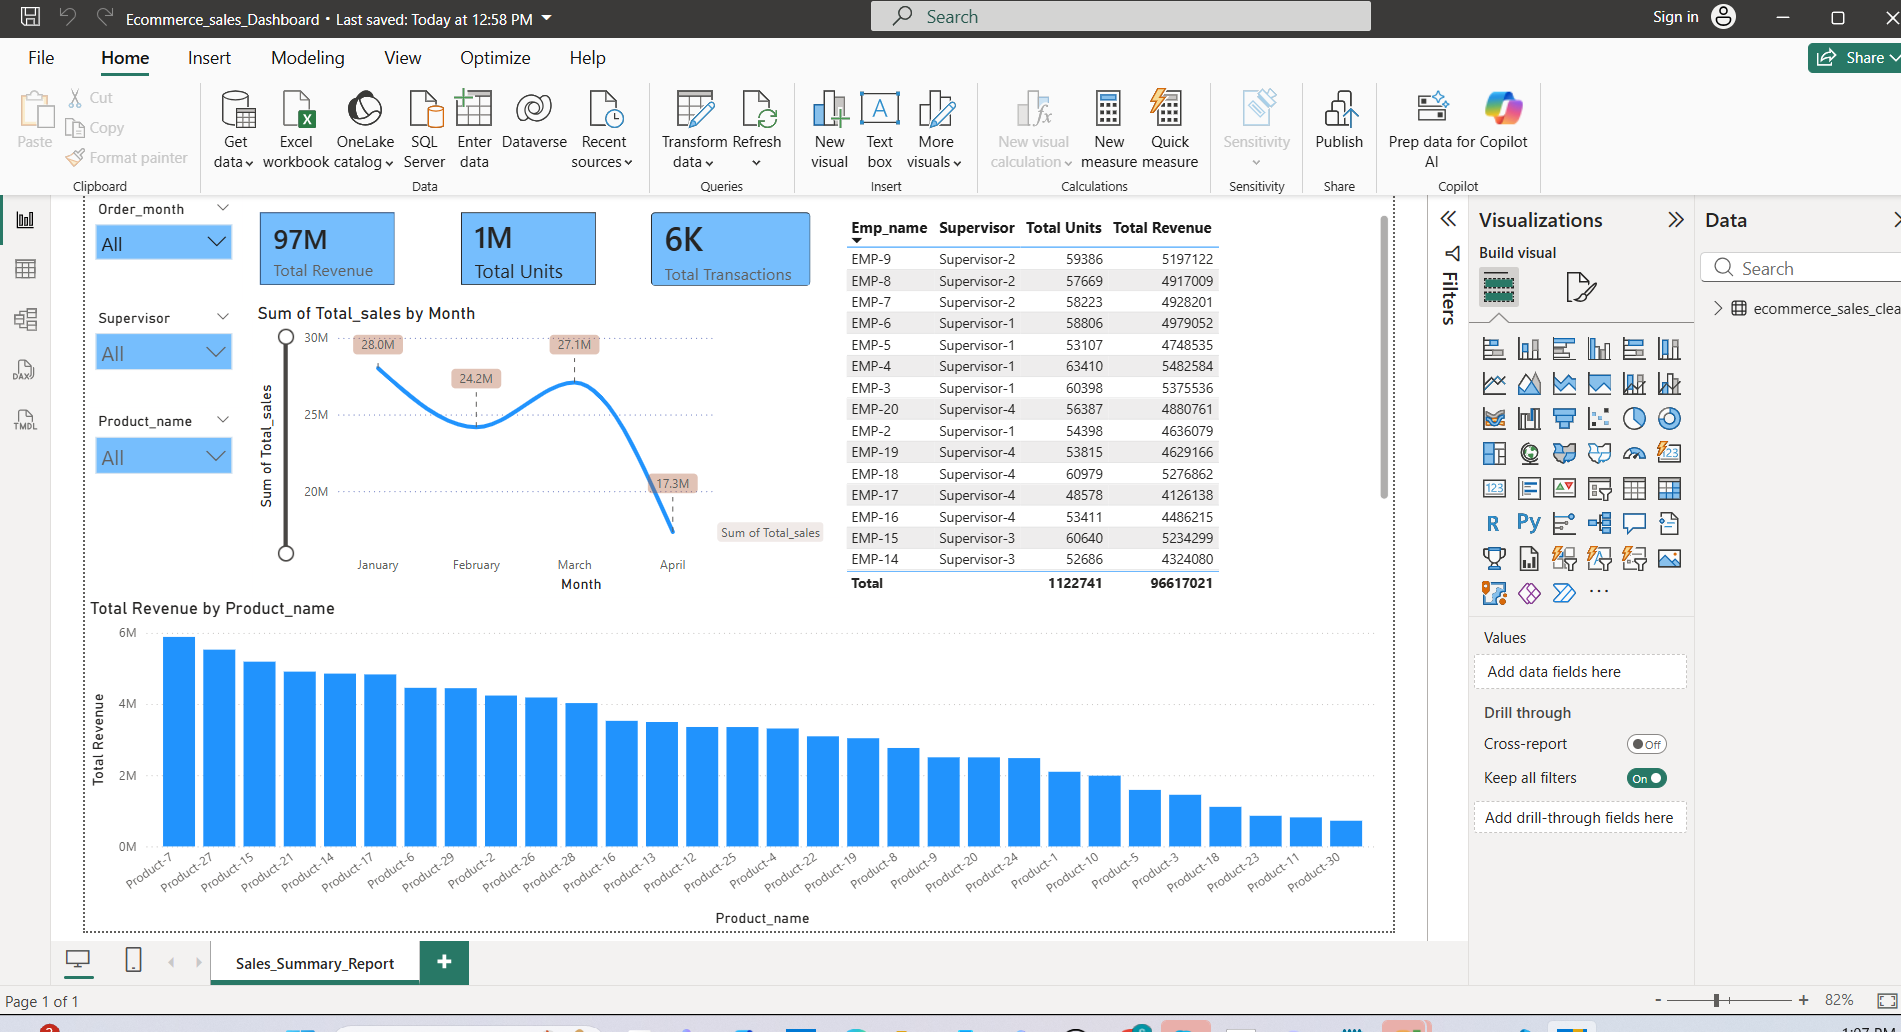

Layout of this report page (visuals, bound fields, positions):
{"tool":"powerbi","page":{"name":"Sales_Summary_Report","canvas":[1280,720],"ordinal":0},"visuals":[{"type":"lineChart","fields":{"Category":["ecommerce_sales_clean.order_month.Variation.Date Hierarchy.Month","ecommerce_sales_clean.order_month.Variation.Date Hierarchy.Day"],"Y":["Sum(ecommerce_sales_clean.total_sales)"]},"box":[163.9,105.2,563.7,288.6],"z":0},{"type":"clusteredColumnChart","fields":{"Category":["ecommerce_sales_clean.product_name"],"Y":["ecommerce_sales_clean.Total Revenue"]},"box":[0,393.8,1270.5,326.5],"z":1000},{"type":"tableEx","fields":{"Values":["ecommerce_sales_clean.emp_name","ecommerce_sales_clean.supervisor","ecommerce_sales_clean.Total Units","ecommerce_sales_clean.Total Revenue"]},"box":[738.6,14.7,541.7,379.1],"z":2000},{"type":"slicer","fields":{"Values":["ecommerce_sales_clean.order_month"]},"box":[0,0,154.1,105.2],"z":3000},{"type":"slicer","fields":{"Values":["ecommerce_sales_clean.supervisor"]},"box":[0,106.4,154.1,67.3],"z":4000},{"type":"slicer","fields":{"Values":["ecommerce_sales_clean.product_name"]},"box":[0,207.9,154.1,86.8],"z":5000},{"type":"cardVisual","fields":{"Data":["ecommerce_sales_clean.Total Revenue"]},"box":[154.1,0,166.3,105.2],"z":6000},{"type":"cardVisual","fields":{"Data":["ecommerce_sales_clean.Total Units"]},"box":[351,0,166.3,105.2],"z":7000},{"type":"cardVisual","fields":{"Data":["ecommerce_sales_clean.Total Transactions"]},"box":[536.8,0,190.8,106.4],"z":8000}]}

Visuals, with their boxes on the page's 1280x720 design canvas (x1, y1, x2, y2). These are canvas units, not pixel positions in the 1901x1032 screenshot, which may show the page scaled, cropped or inside an application window:
lineChart - ecommerce_sales_clean.order_month.Variation.Date Hierarchy.Month x ecommerce_sales_clean.order_month.Variation.Date Hierarchy.Day: Rect(164, 105, 728, 394)
clusteredColumnChart - ecommerce_sales_clean.product_name x ecommerce_sales_clean.Total Revenue: Rect(0, 394, 1270, 720)
tableEx - ecommerce_sales_clean.emp_name x ecommerce_sales_clean.supervisor: Rect(739, 15, 1280, 394)
slicer - ecommerce_sales_clean.order_month: Rect(0, 0, 154, 105)
slicer - ecommerce_sales_clean.supervisor: Rect(0, 106, 154, 174)
slicer - ecommerce_sales_clean.product_name: Rect(0, 208, 154, 295)
cardVisual - ecommerce_sales_clean.Total Revenue: Rect(154, 0, 320, 105)
cardVisual - ecommerce_sales_clean.Total Units: Rect(351, 0, 517, 105)
cardVisual - ecommerce_sales_clean.Total Transactions: Rect(537, 0, 728, 106)
